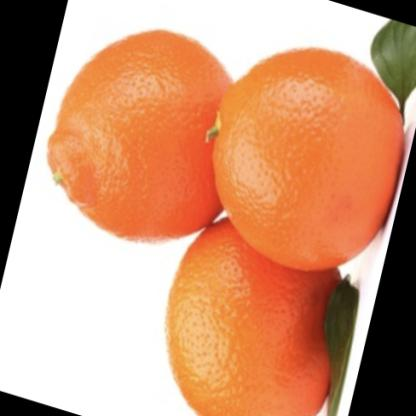fresh: (48, 29, 408, 416)
